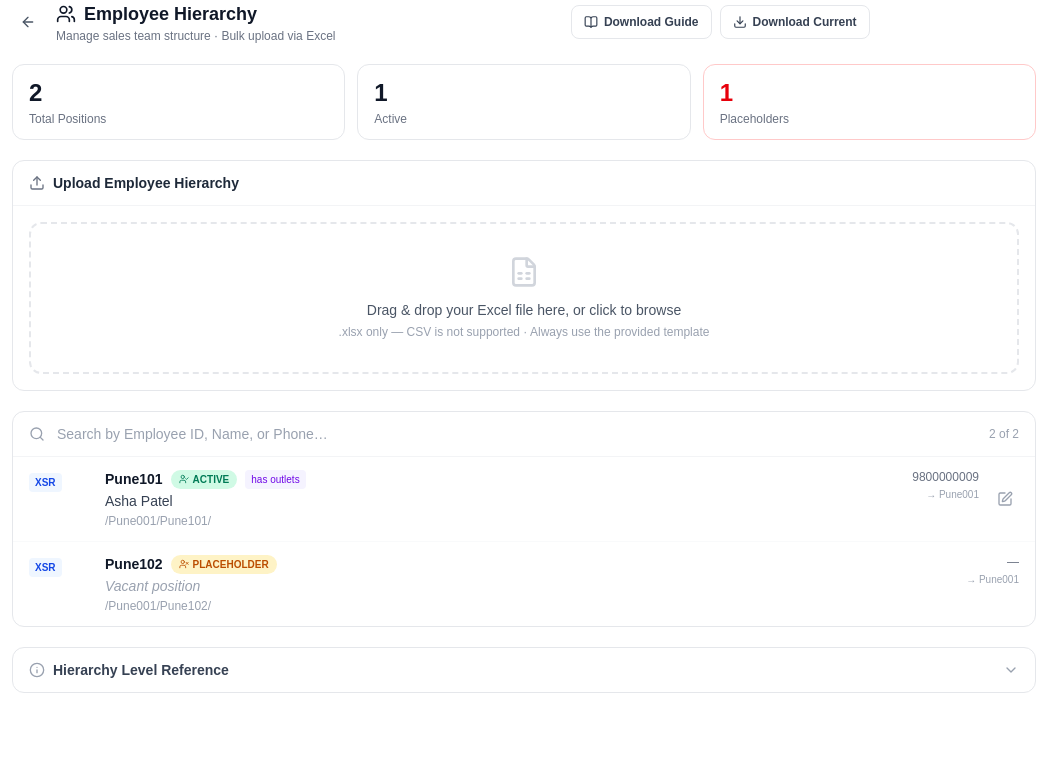
Test case: Employee Hierarchy — edit affordance › HE4: when the employee can't be loaded (404), an honest error is shown and no modal opens
Click the button with test id "hierarchy-edit-Pune101" at (1005, 499), box [991,485,1019,513]
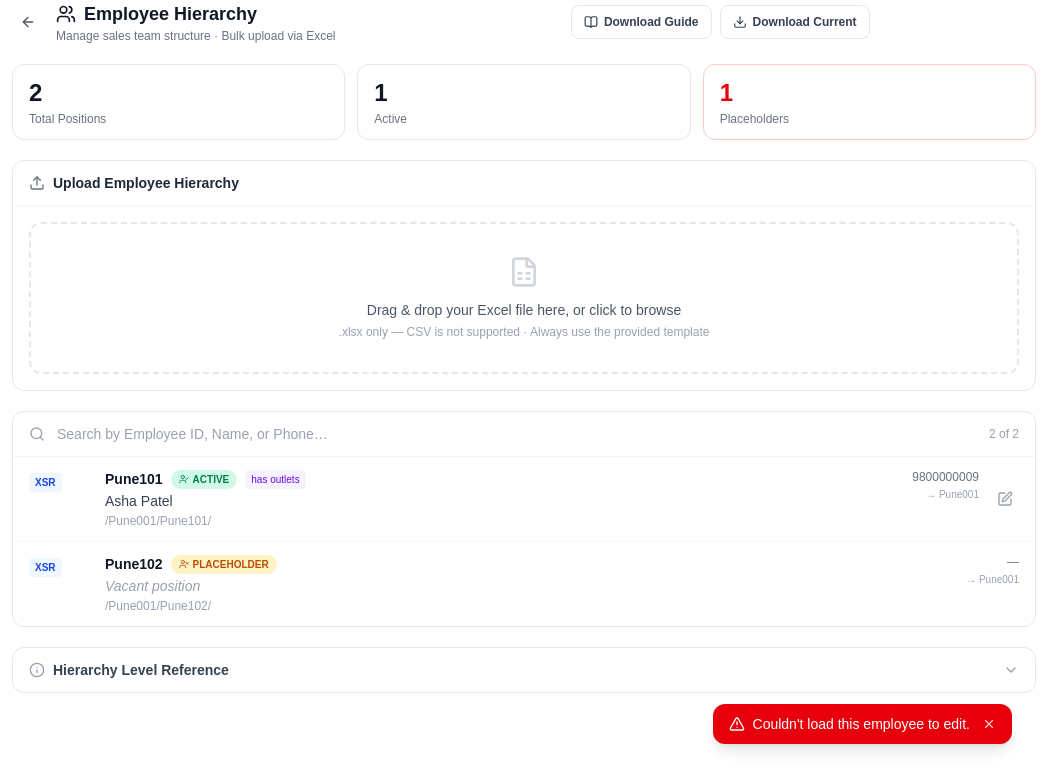
Now the text "Couldn't load this employee to edit." is shown, box [752,714,970,734]
